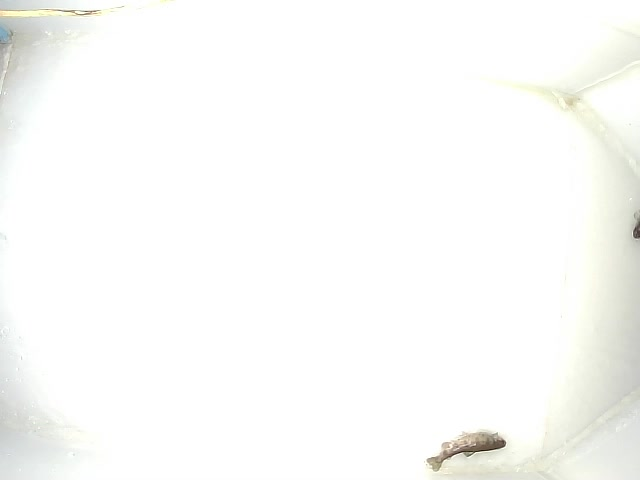fish: (425, 429, 508, 473)
